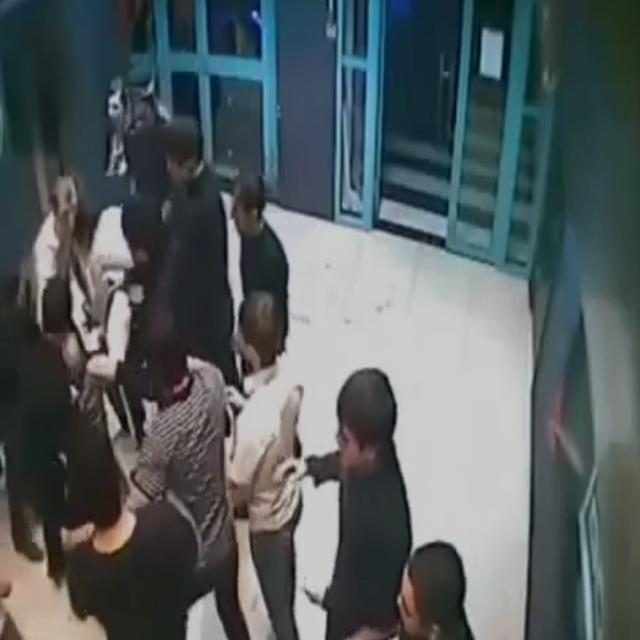fight: (30, 172, 142, 442)
non-fight: (273, 366, 412, 640), (57, 444, 201, 640), (225, 298, 308, 635), (2, 286, 77, 593), (152, 123, 236, 394), (232, 170, 290, 360)
